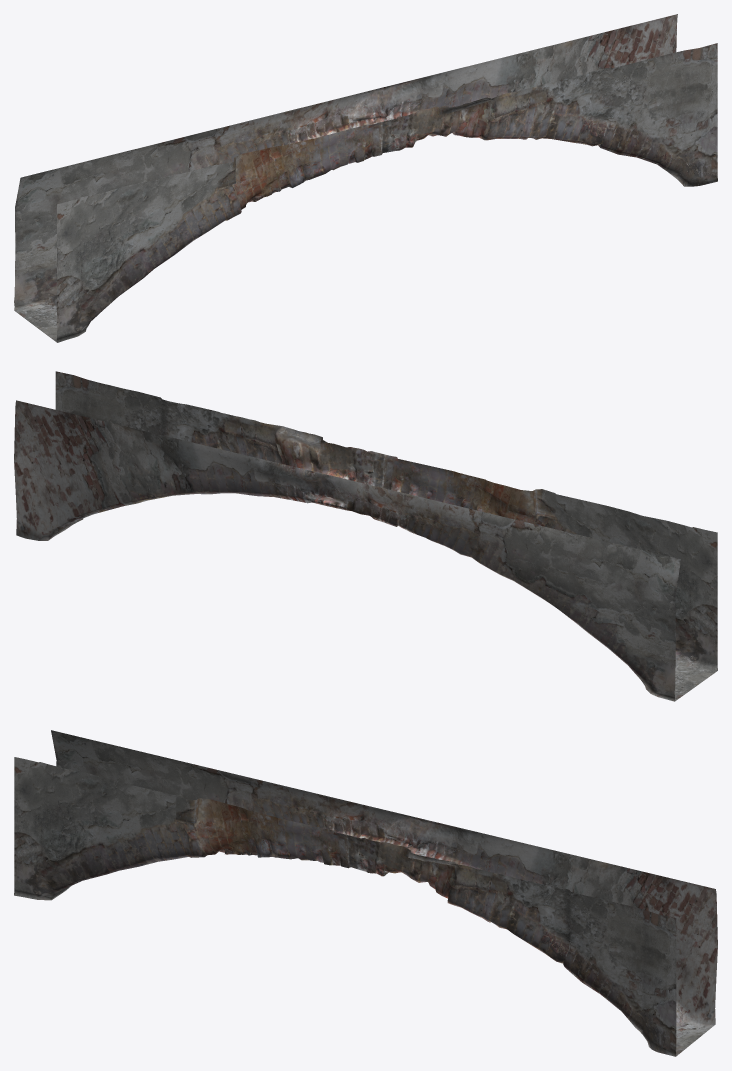
Rendered from sm_CryptArch_01_03.fbx.
The picture shows the model from 3 angles, top to bottom: view 1: azimuth 30°, elevation 25°; view 2: azimuth 150°, elevation 25°; view 3: azimuth 330°, elevation 25°; orthographic projection.
Parts seen in each view (by area): view 1: sm_CryptArch_01_03_LOD0; view 2: sm_CryptArch_01_03_LOD0; view 3: sm_CryptArch_01_03_LOD0.
Part boxes in pixels (bbox=[...]): sm_CryptArch_01_03_LOD0: bbox=[14, 14, 717, 342]; sm_CryptArch_01_03_LOD0: bbox=[14, 371, 717, 701]; sm_CryptArch_01_03_LOD0: bbox=[14, 730, 717, 1056].
Bounding box in the file's own units: 720 × 82.6 × 144.
